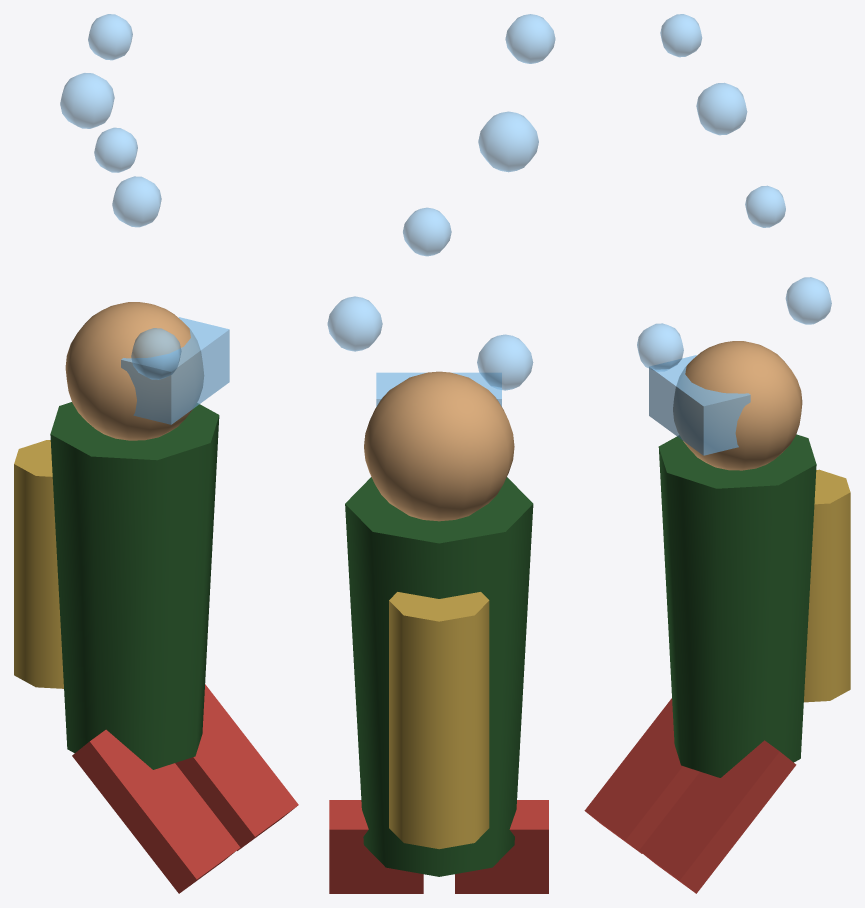
File: diver.glb
3 renders of one model, left to right at view 1: azimuth 30°, elevation 25°; view 2: azimuth 150°, elevation 25°; view 3: azimuth 270°, elevation 25°, orthographic. The views are drawn at different scales.
Size of the model in its own units: 0.4269 by 1.61 by 0.4884.
